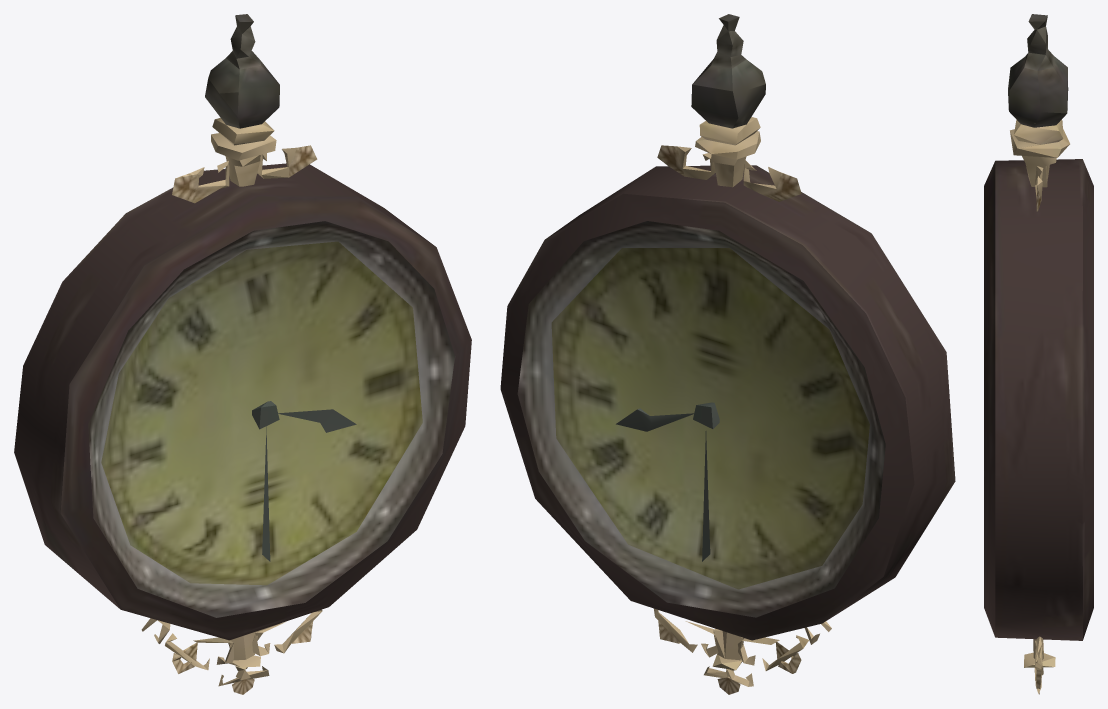
Rendered from clock-wall.lod1.glb.
The picture shows the model from 3 angles, left to right: view 1: azimuth 30°, elevation 25°; view 2: azimuth 150°, elevation 25°; view 3: azimuth 270°, elevation 25°; orthographic projection.
Parts seen in each view (by area): view 1: clock-wall; view 2: clock-wall; view 3: clock-wall.
Boxes of the visible parts, left/top/right/bottom form: clock-wall: left=14, top=14, right=471, bottom=694; clock-wall: left=500, top=14, right=955, bottom=694; clock-wall: left=984, top=14, right=1093, bottom=694.
Bounding box in the file's own units: 0.4623 × 0.7226 × 0.1062.
1 material, 1 textured.
